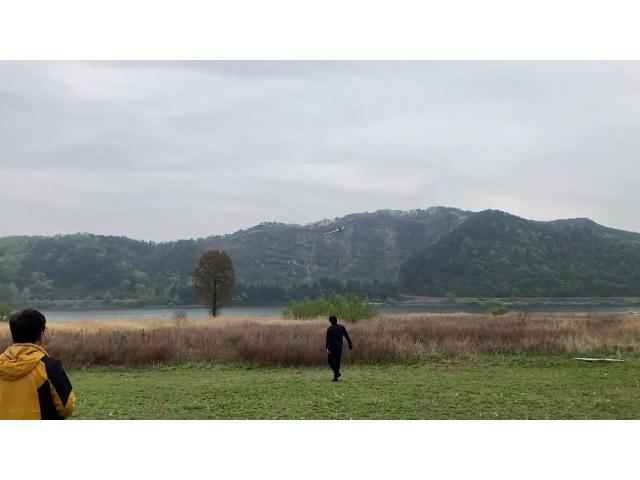Anti-Drone: (322, 221, 358, 235)
